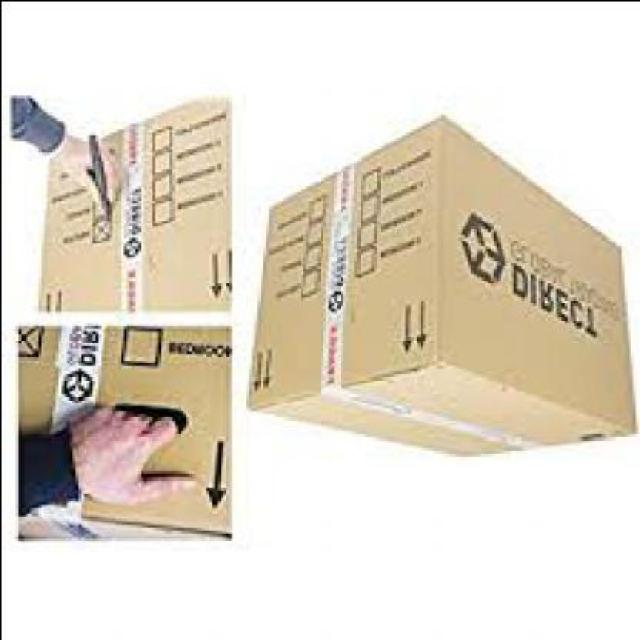CARDBOARD: (244, 116, 631, 458), (14, 325, 228, 540), (34, 99, 228, 316)
